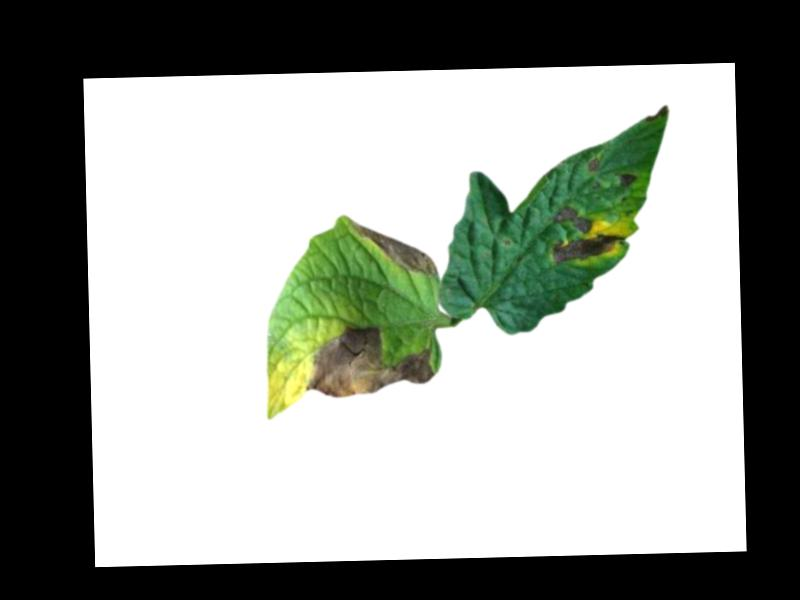Early_blight: (302, 323, 436, 398), (349, 217, 439, 279), (538, 204, 627, 264), (616, 169, 639, 188), (587, 154, 600, 172)
